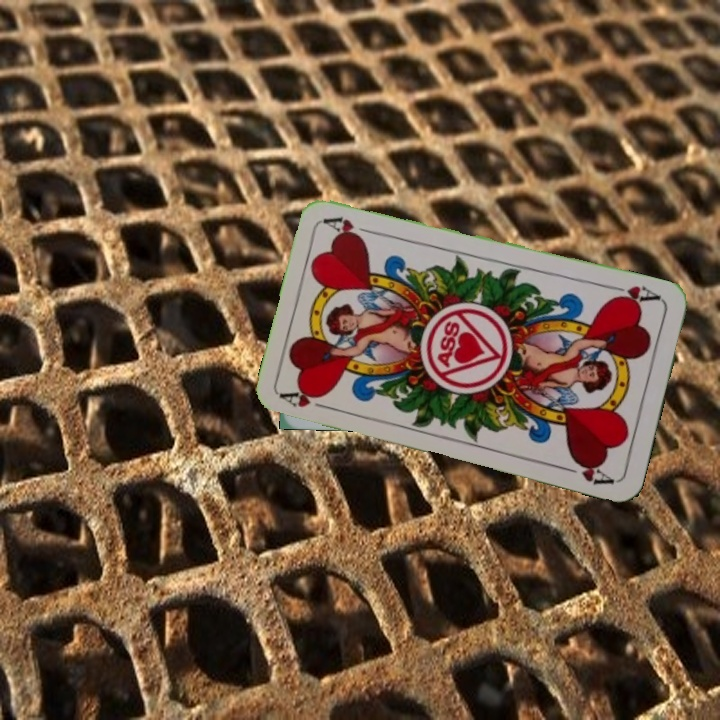HA: (278, 385, 336, 413), (605, 281, 663, 308)
